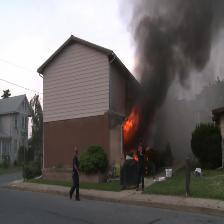fire: (115, 96, 152, 177)
smoke: (124, 0, 224, 107)
